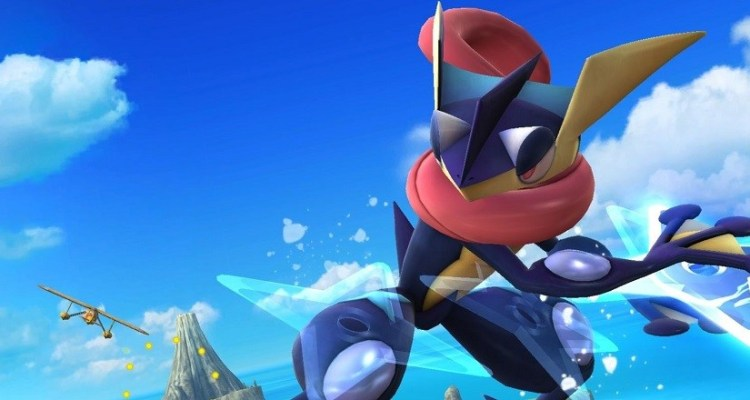greninja: (279, 1, 749, 400)
